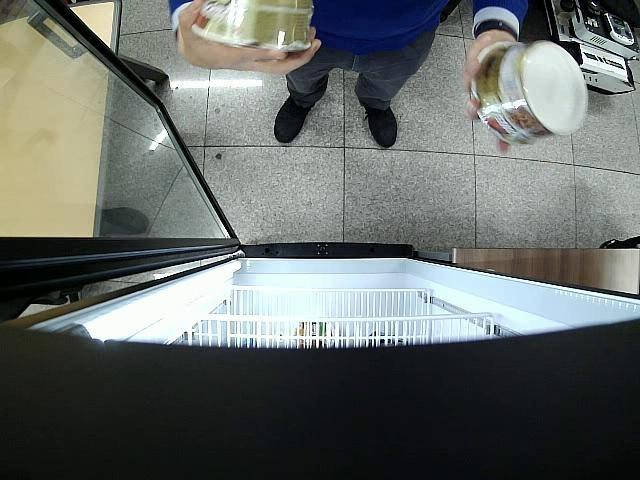03_chapagetti_L: (471, 40, 588, 143), (192, 0, 314, 50)
